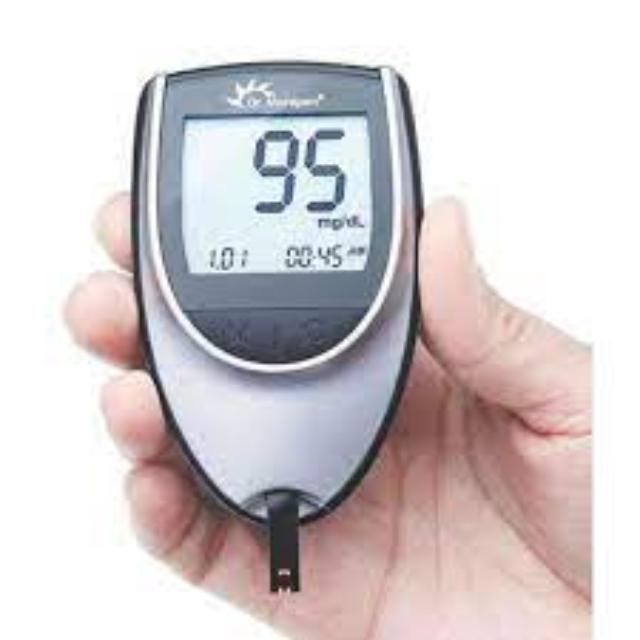Glucose-Meter: (115, 61, 424, 591)
